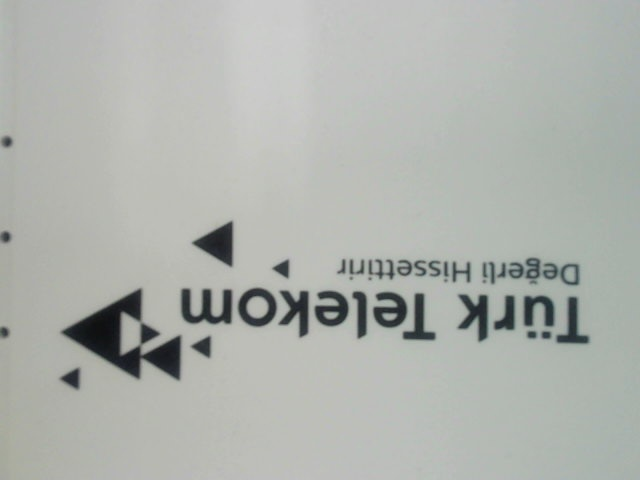AQ_TURKTelekom: (43, 216, 593, 396)
